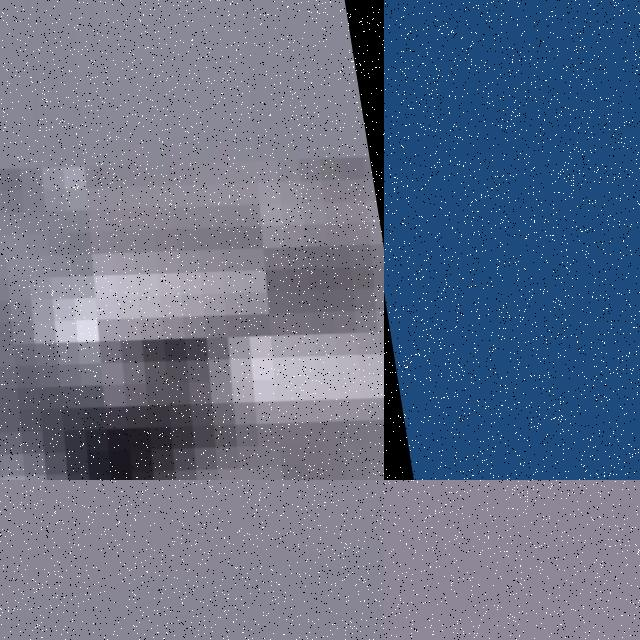drone: (0, 0, 384, 480)
